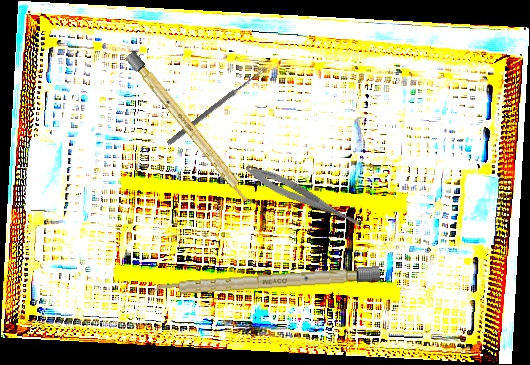Micro Scissor: (242, 160, 372, 234)
Scalpel Handle: (124, 50, 256, 208), (149, 265, 381, 298)
Surgical Spoon: (166, 65, 268, 147)
